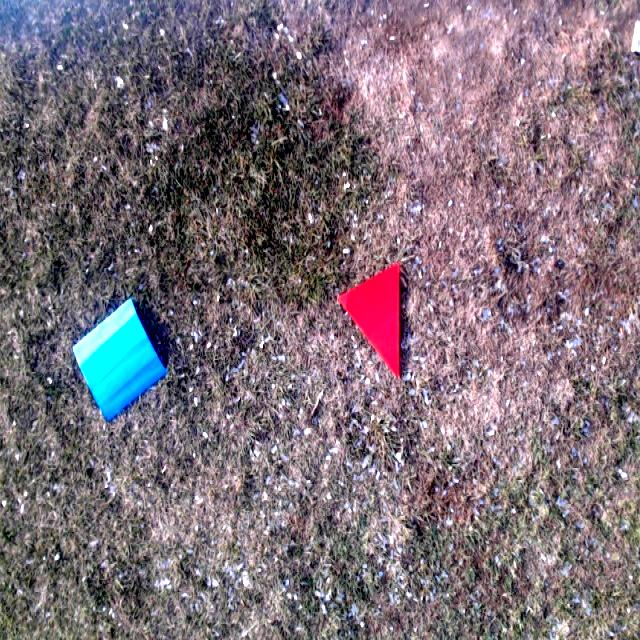blue_square: (72, 296, 168, 422)
red_triangle: (338, 265, 401, 373)
